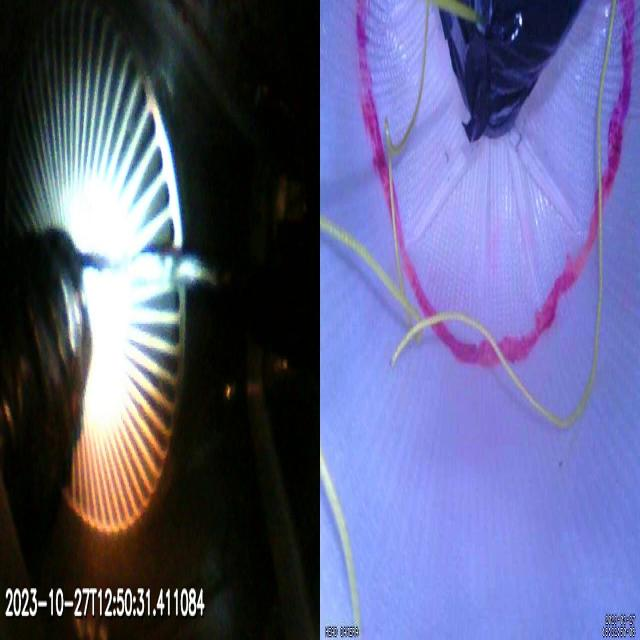red-circle: (356, 0, 634, 368)
